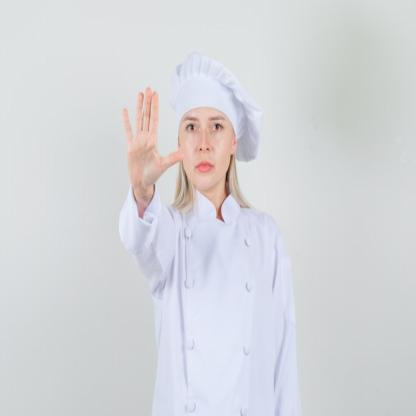stop: (119, 82, 186, 198)
